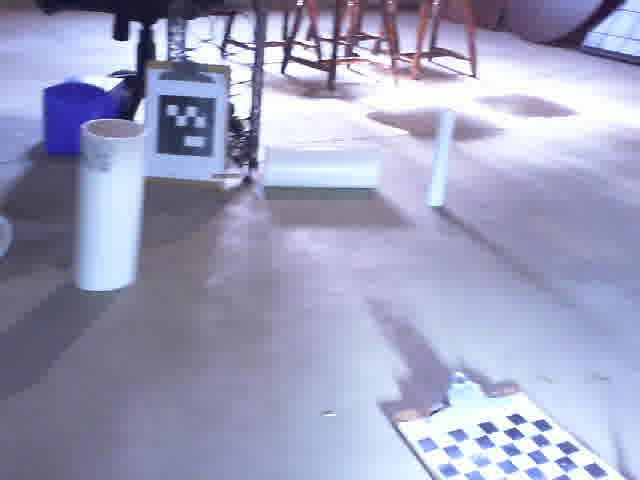coral: (79, 115, 146, 295), (258, 140, 383, 195), (0, 211, 18, 265)
